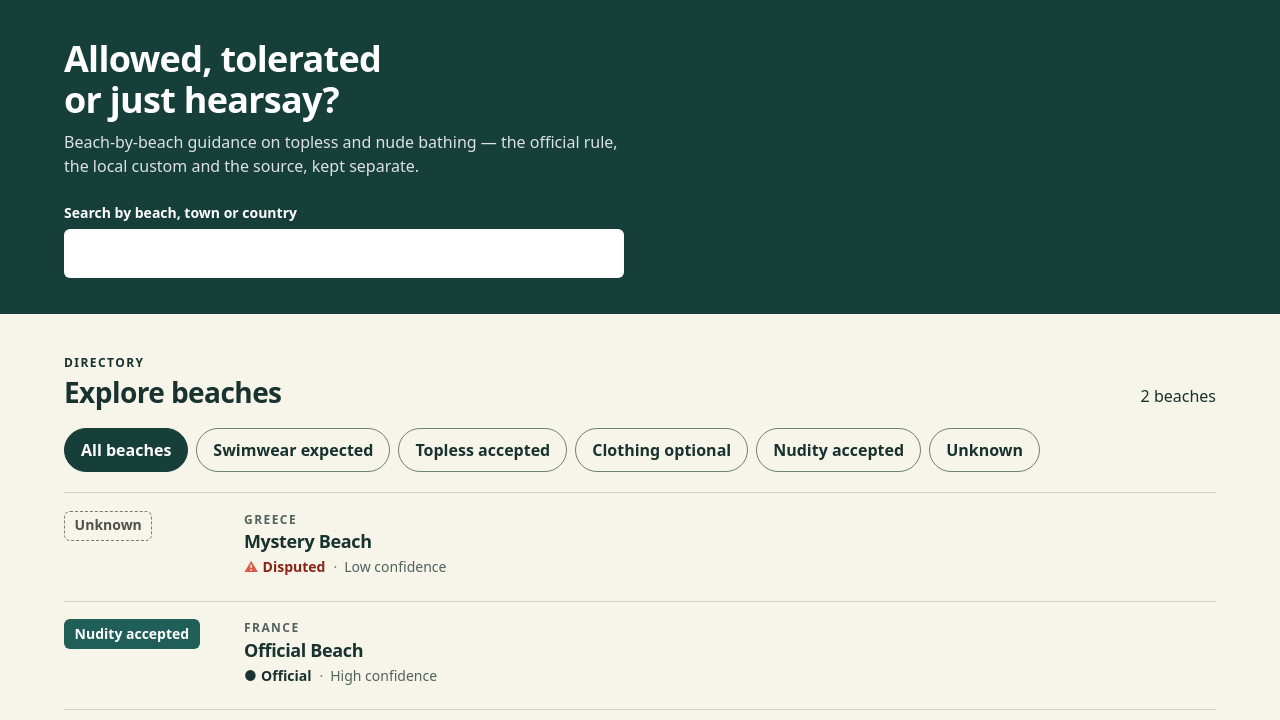
Test: HomePage › lets a visitor clear a filter that matches nothing
expect the link "Mystery Beach" is shown: met, box [244,529,372,553]
Click the button "Swimwear expected". click: (293, 450)
box: [196,428,390,472]
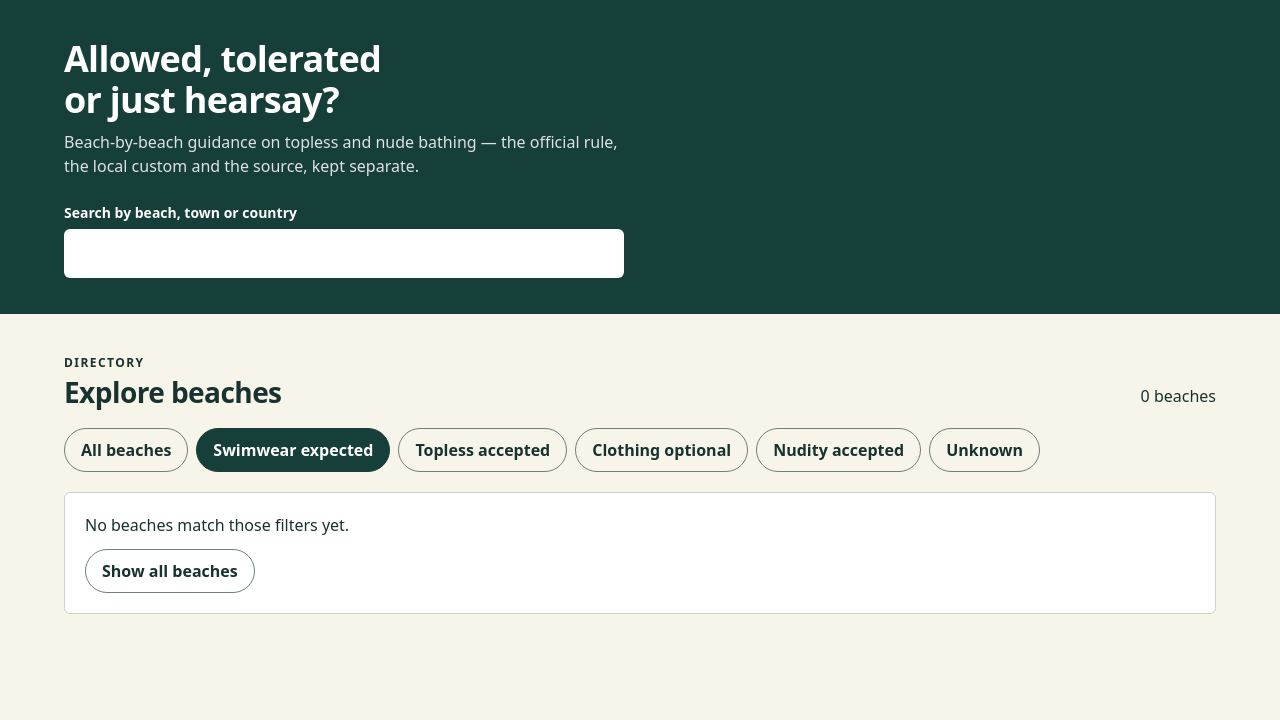
expect the text "No beaches match those filters yet." is shown: met, box [85,513,349,537]
Click the button "Show all beaches". click: (170, 571)
box: [85,549,255,593]
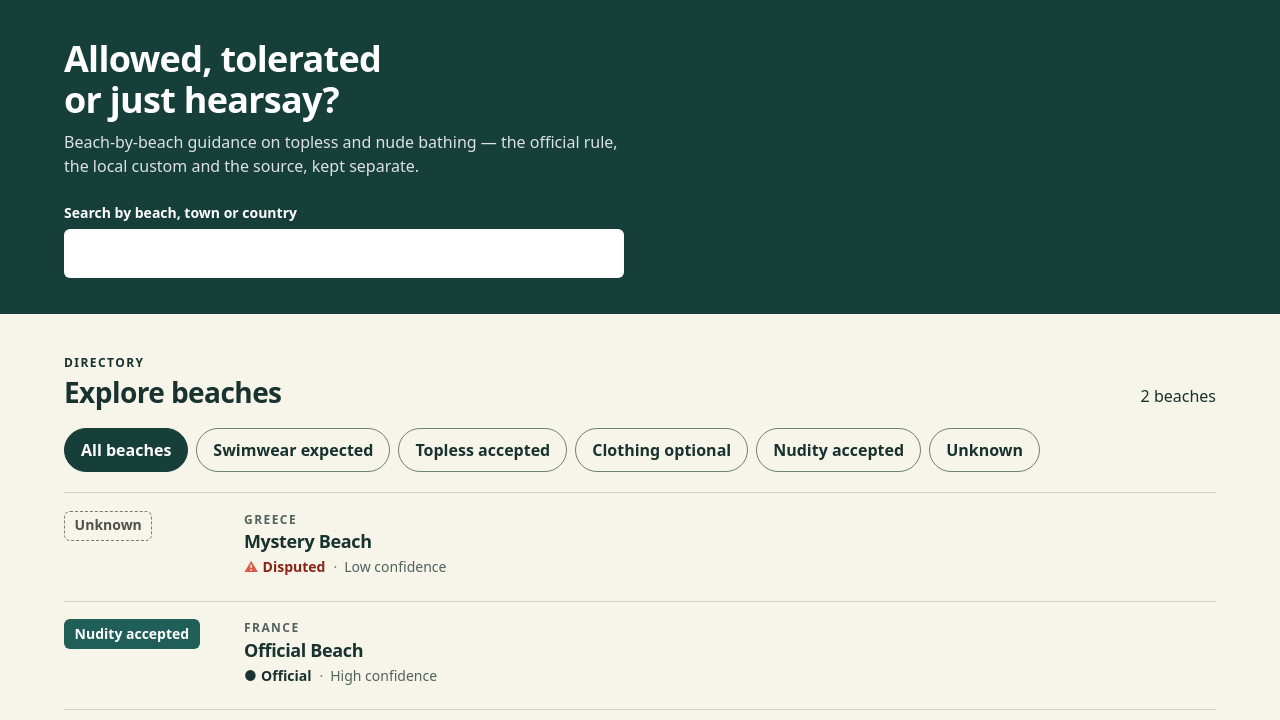
expect the link "Mystery Beach" is shown: met, box [244,529,372,553]
